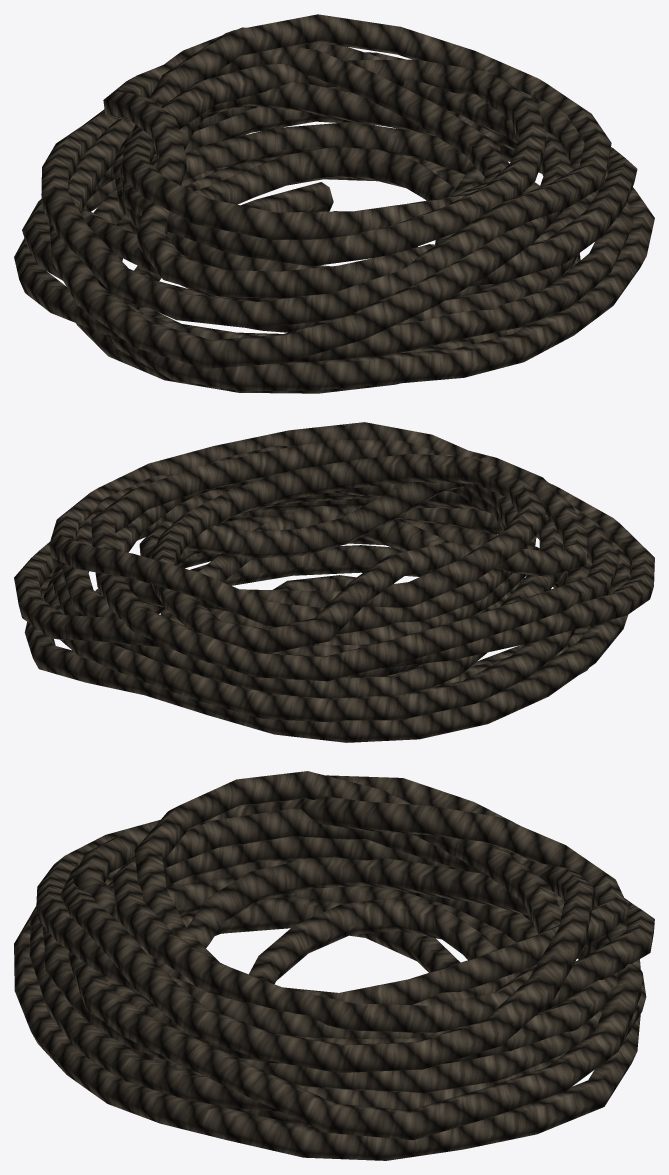
File: RopeCoil.fbx
The picture shows the model from 3 angles, top to bottom: view 1: azimuth 30°, elevation 25°; view 2: azimuth 150°, elevation 25°; view 3: azimuth 270°, elevation 25°; orthographic projection. The views are drawn at different scales.
Parts seen in each view (by area): view 1: RopeCoil; view 2: RopeCoil; view 3: RopeCoil.
Boxes of the visible parts, x1,y1,x2,y2 form: RopeCoil: (14,14,654,393); RopeCoil: (14,422,654,742); RopeCoil: (14,771,654,1160).
Size of the model in its own units: 0.6775 by 0.1726 by 0.6274.
1 material, 1 textured.
